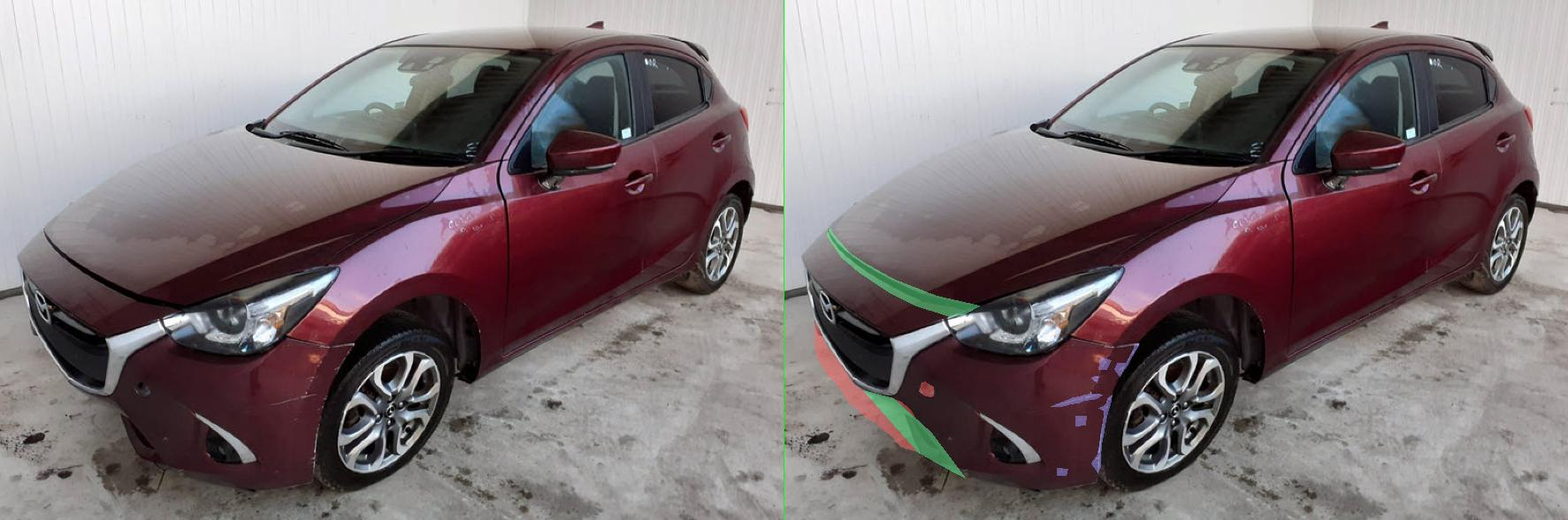Broken part: (85, 228, 389, 316), (158, 390, 361, 478)
Missing part: (60, 320, 311, 459), (269, 381, 297, 396)
Scratch: (614, 395, 655, 472), (667, 344, 708, 374), (533, 394, 635, 406), (660, 363, 687, 376), (628, 357, 653, 369), (582, 416, 603, 426), (545, 468, 566, 475), (635, 359, 648, 367), (614, 376, 628, 382)
